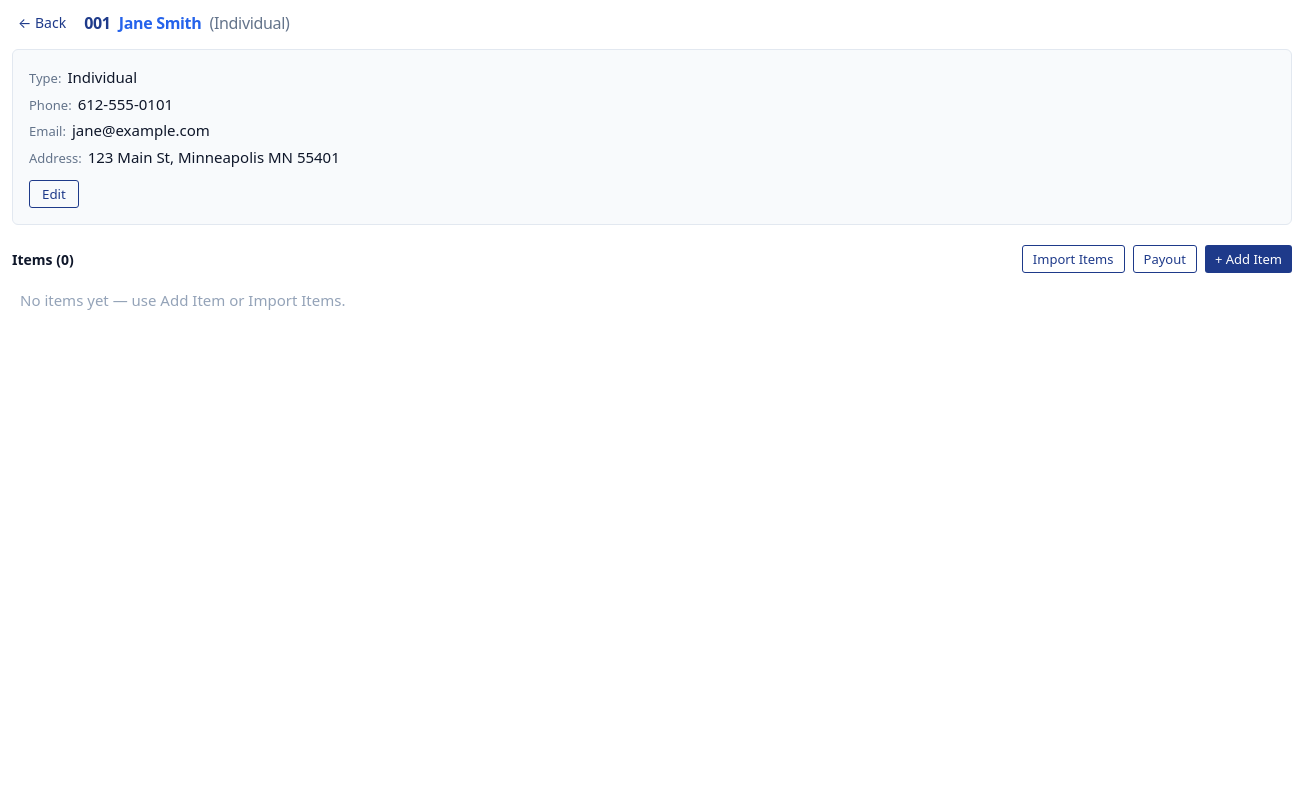
Test case: SellerDetailPage › shows an error when saving without a state
Click the button "Edit": (54, 194) x1=29 y1=180 x2=79 y2=208
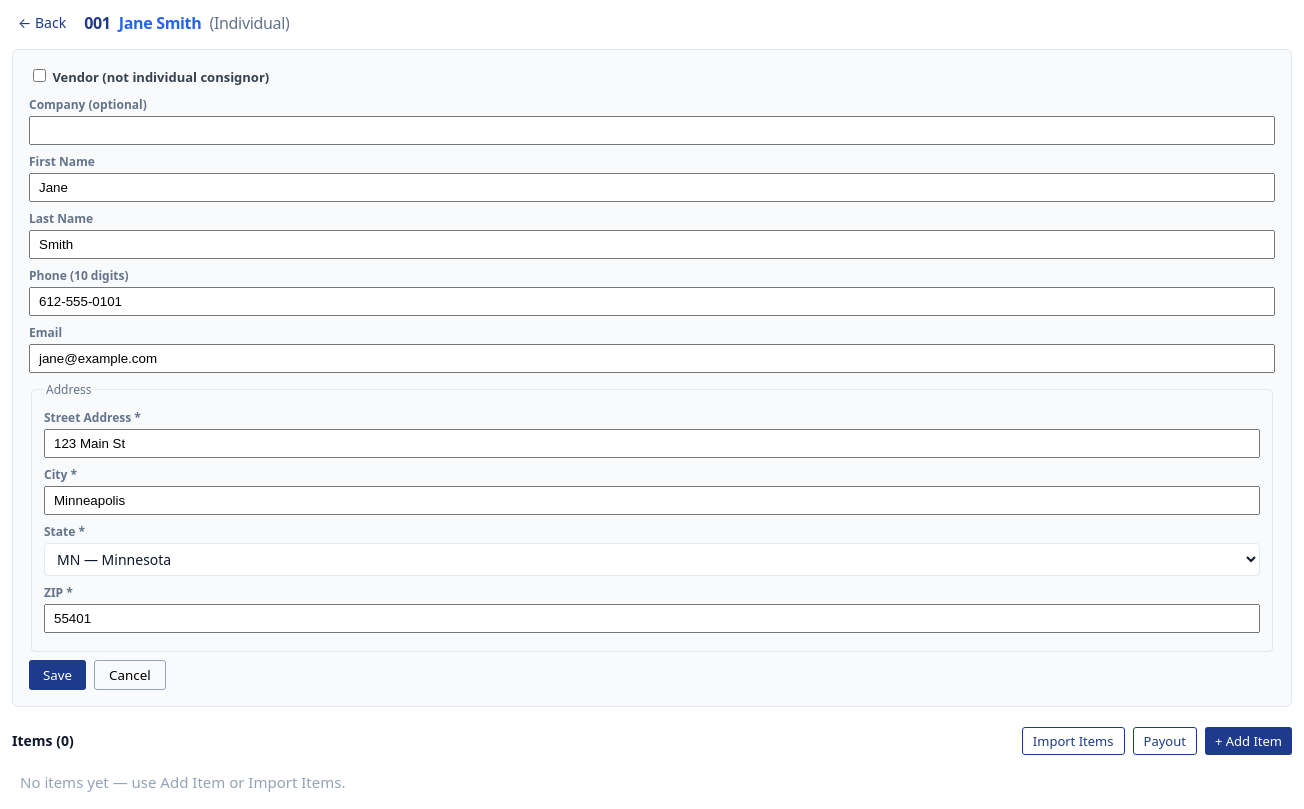
Select "— select state —" in the dropdown labelled "State *": (652, 559) x1=44 y1=542 x2=1260 y2=576
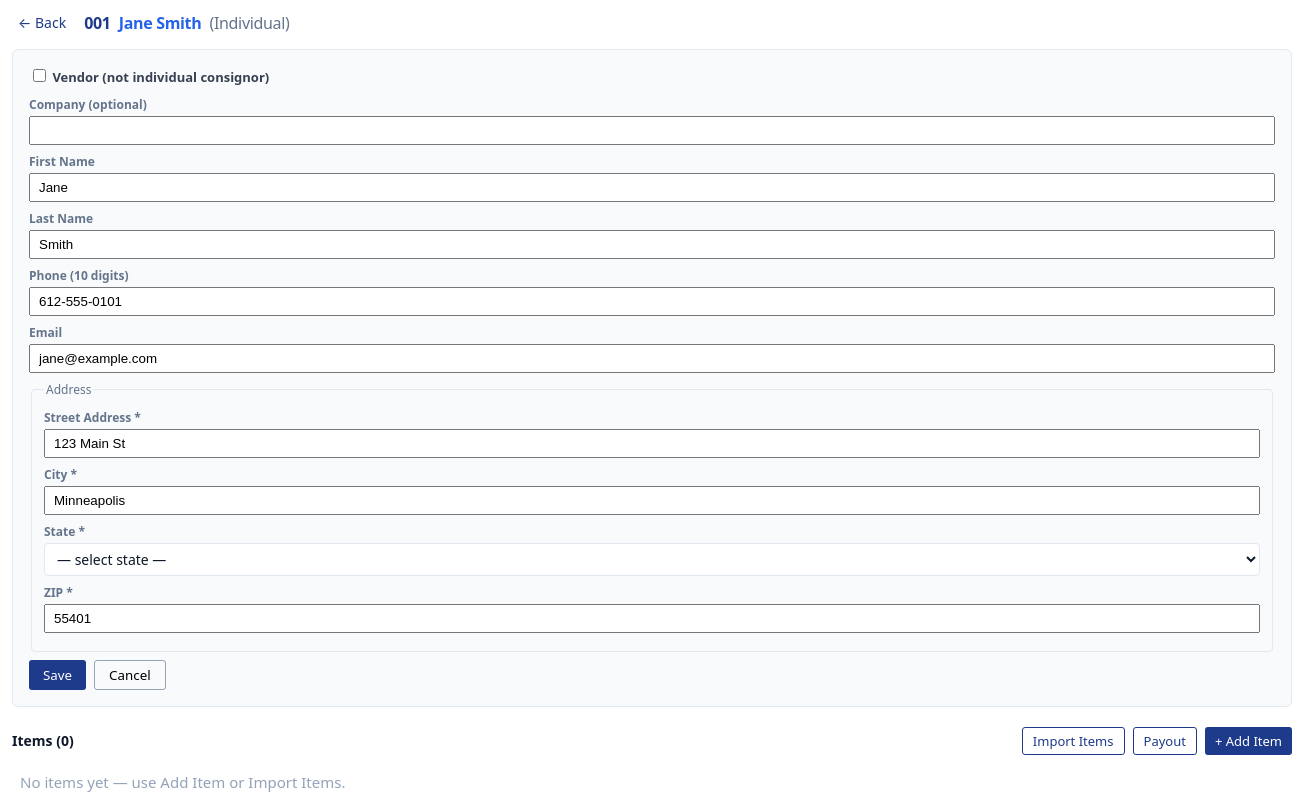
Click the button "Save": (58, 674) x1=29 y1=660 x2=86 y2=690
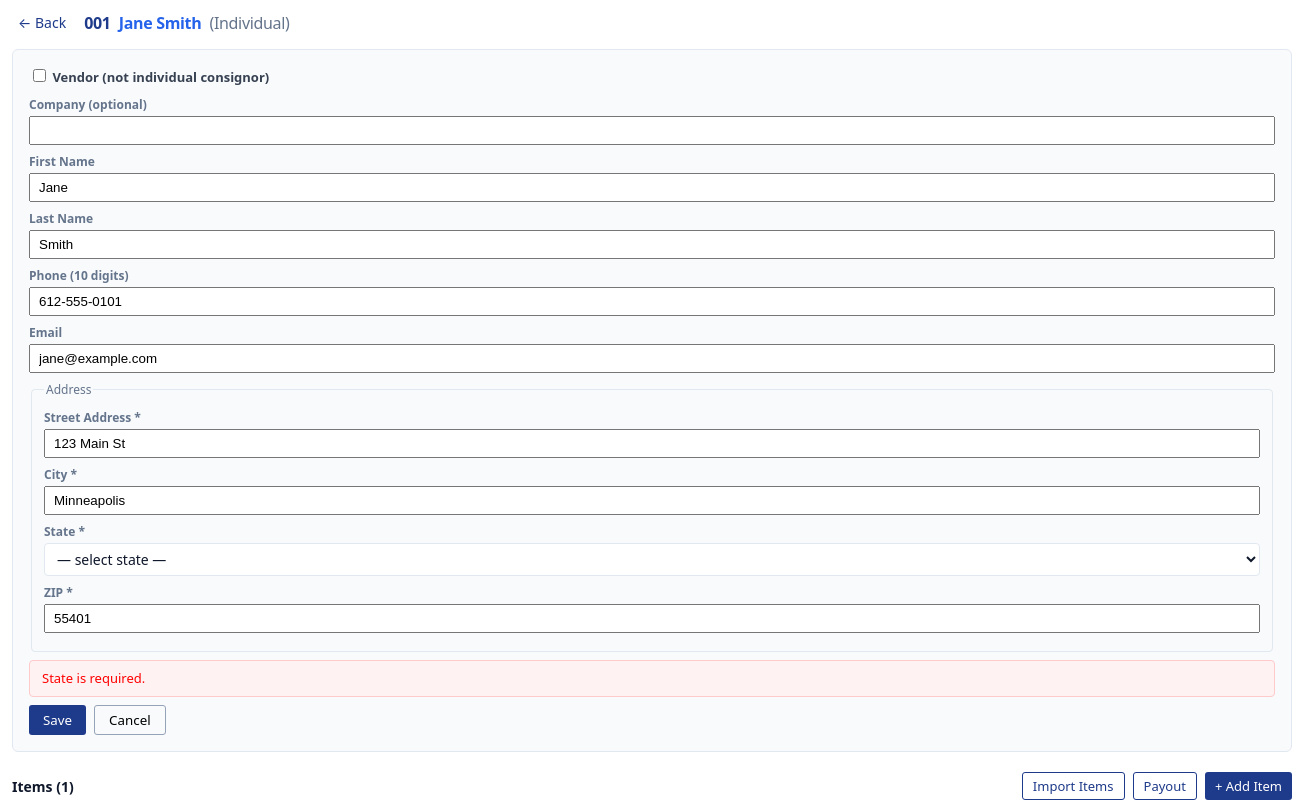
Expected: the message shows "State is required", x1=42 y1=668 x2=145 y2=686
